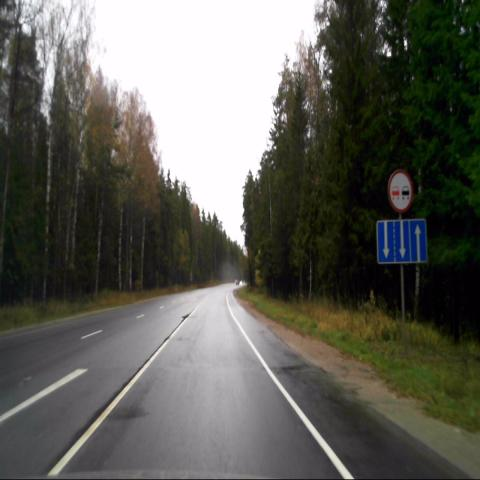3_20: (387, 167, 413, 213)
